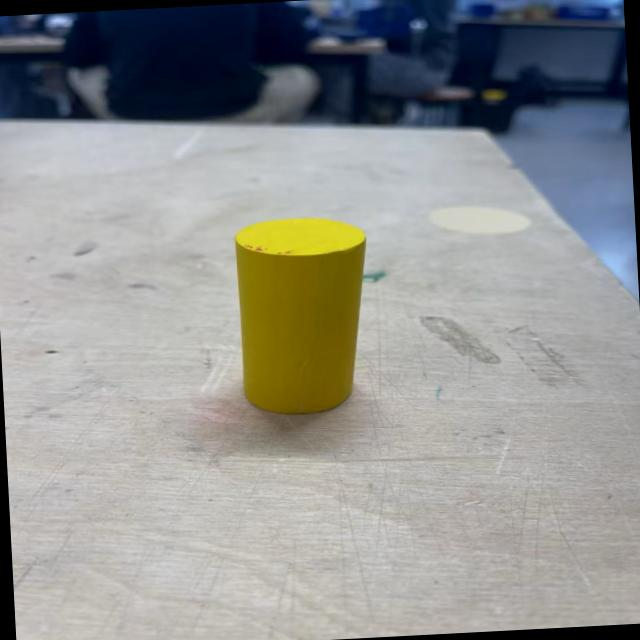yellow_cylinder: (234, 214, 375, 418)
